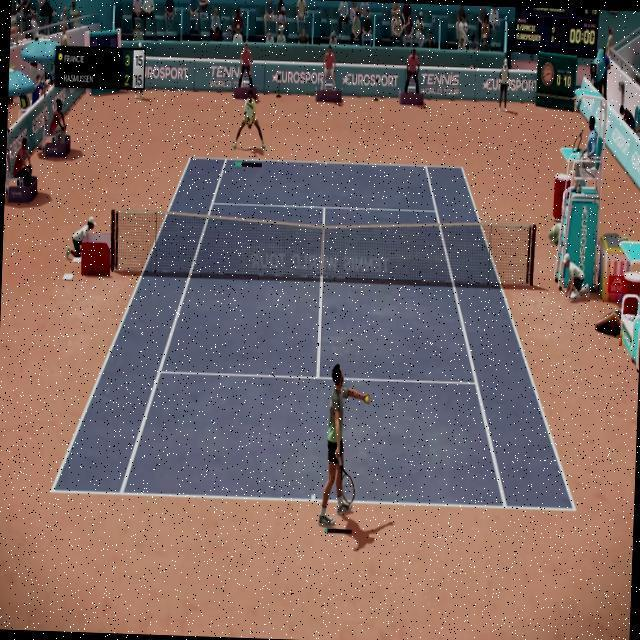left side: (50, 158, 228, 494), (426, 166, 575, 510)
player: (316, 362, 366, 528), (232, 93, 266, 152)
